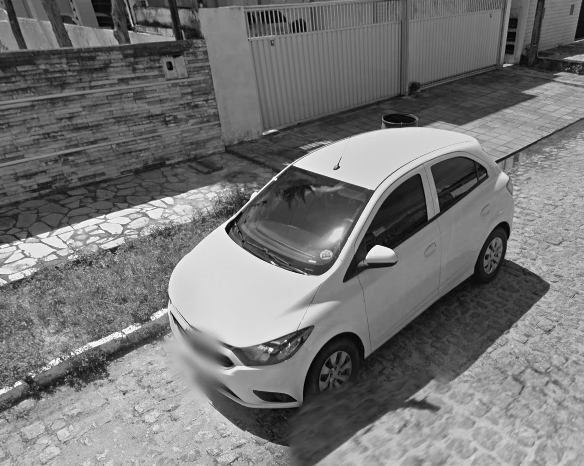car: (163, 119, 520, 417)
